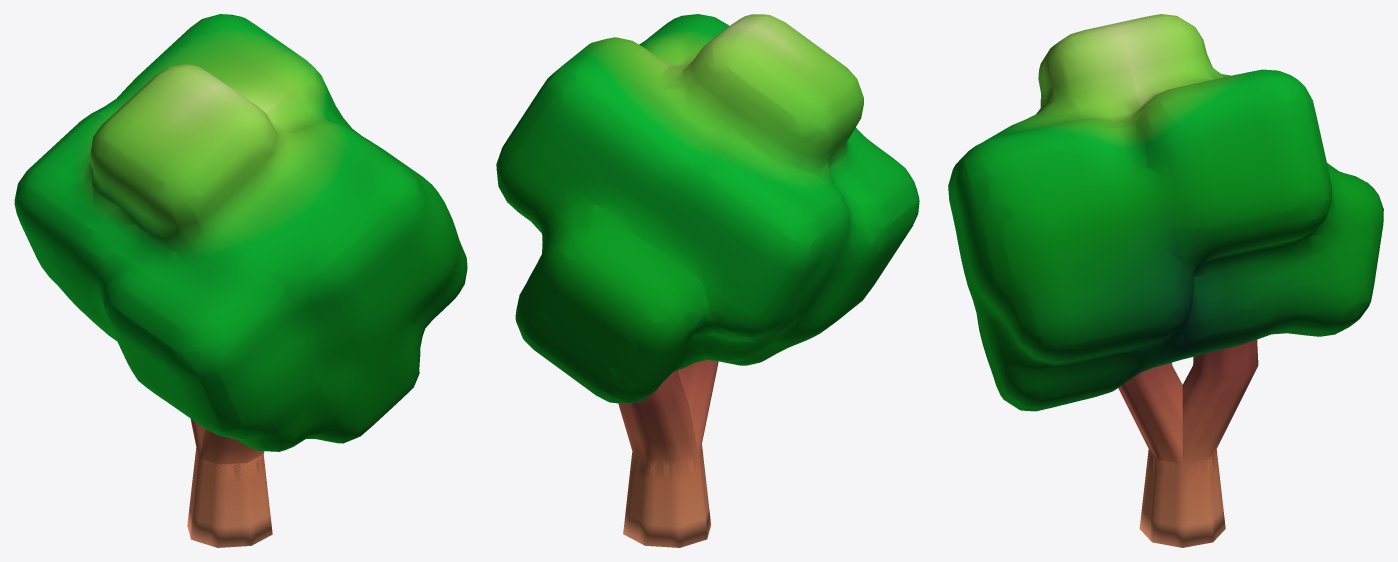
The model's file is Arvore2.fbx.
The picture shows the model from 3 angles, left to right: view 1: azimuth 30°, elevation 25°; view 2: azimuth 150°, elevation 25°; view 3: azimuth 270°, elevation 25°; orthographic projection. The views are drawn at different scales.
Parts seen in each view (by area): view 1: Mball.001, Circle.002; view 2: Mball.001, Circle.002; view 3: Mball.001, Circle.002.
Part boxes in pixels (x1,y1,x2,y2): Mball.001: (14, 14, 467, 451); Circle.002: (187, 418, 272, 547); Mball.001: (496, 14, 919, 403); Circle.002: (618, 360, 718, 547); Mball.001: (948, 14, 1383, 411); Circle.002: (1118, 339, 1258, 547).
Bounding box in the file's own units: 1306 × 1735 × 1415.
